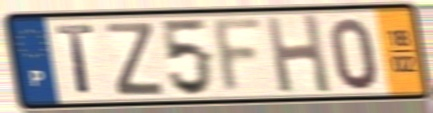0: (327, 13, 381, 93)
5: (156, 17, 218, 98)
F: (210, 14, 268, 98)
H: (262, 11, 335, 96)
T: (53, 22, 97, 98)
Z: (104, 21, 166, 98)
